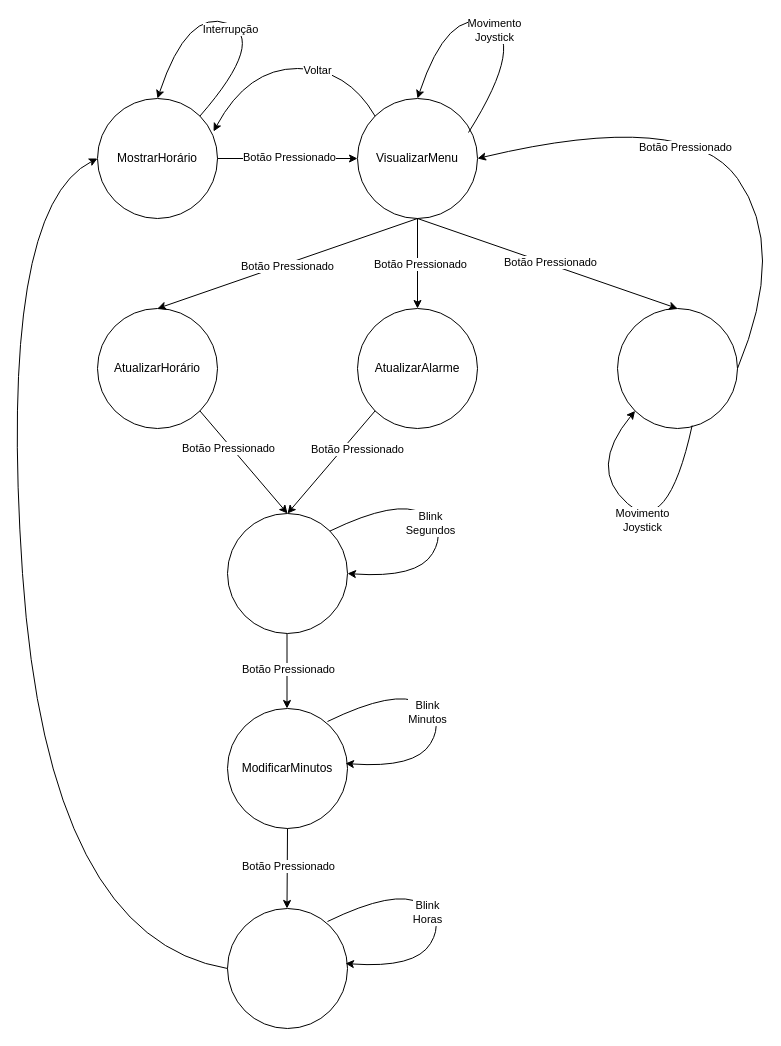
This 781x1046 diagram has some shape labels left out. The centre of each missing label's shape, as x and y in pixels:
"ModificarHoras" goes at (287,968).
"ModificarSegundos" goes at (287,573).
"SelecionarMúsica" goes at (677,368).
